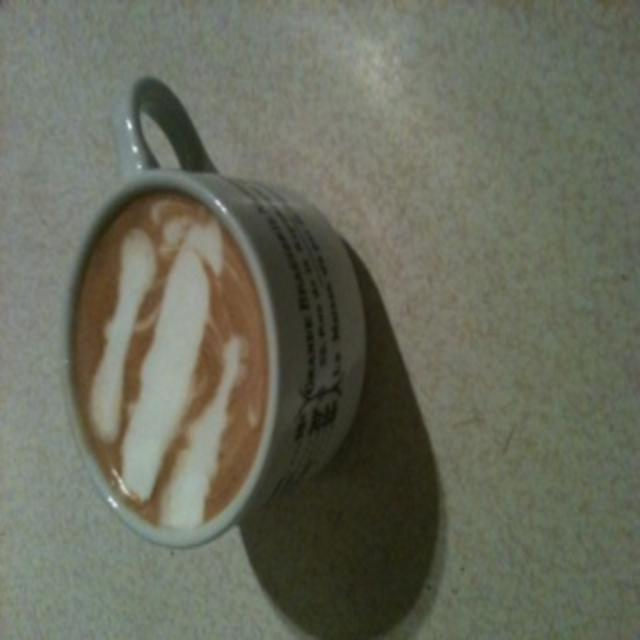Coffee: (72, 187, 270, 533)
